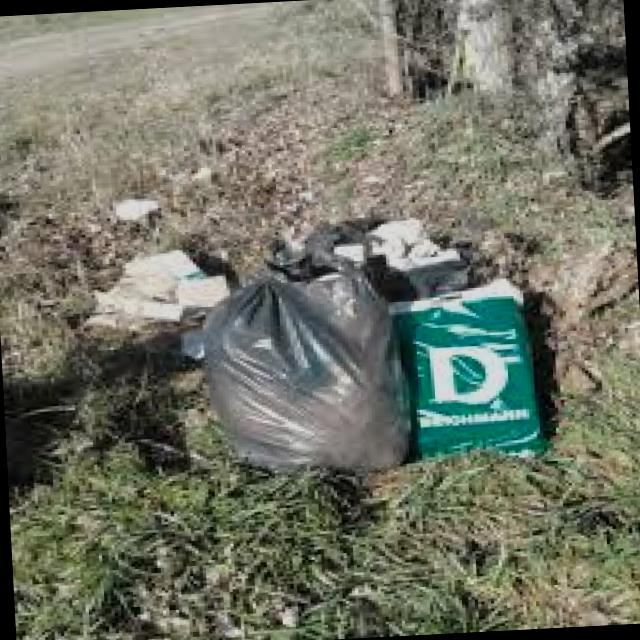garbage: (67, 186, 564, 489)
